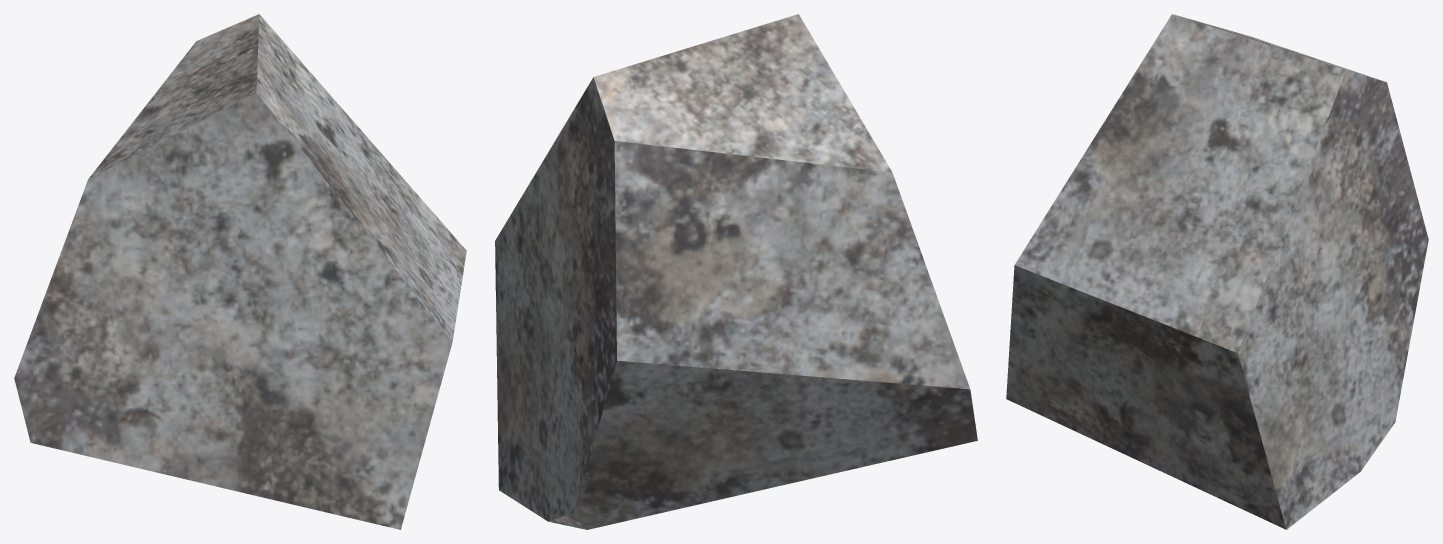
Rendered from Asteroid_Large_001_02_009_03_045.fbx.
The picture shows the model from 3 angles, left to right: view 1: azimuth 30°, elevation 25°; view 2: azimuth 150°, elevation 25°; view 3: azimuth 270°, elevation 25°; orthographic projection. The views are drawn at different scales.
Parts seen in each view (by area): view 1: Asteroid_Large_001_02_009_03_045; view 2: Asteroid_Large_001_02_009_03_045; view 3: Asteroid_Large_001_02_009_03_045.
Boxes of the visible parts, x1,y1,x2,y2 form: Asteroid_Large_001_02_009_03_045: [14, 14, 466, 529]; Asteroid_Large_001_02_009_03_045: [495, 14, 977, 529]; Asteroid_Large_001_02_009_03_045: [1006, 14, 1428, 529].
Size of the model in its own units: 9.18 by 8.81 by 8.07.
